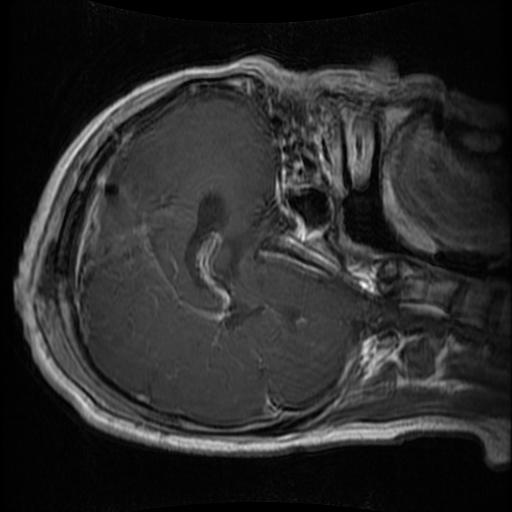glioma: (87, 176, 164, 284)
